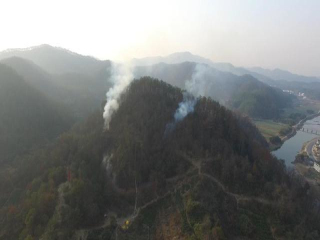smoke: (165, 64, 211, 136), (101, 56, 139, 130)
